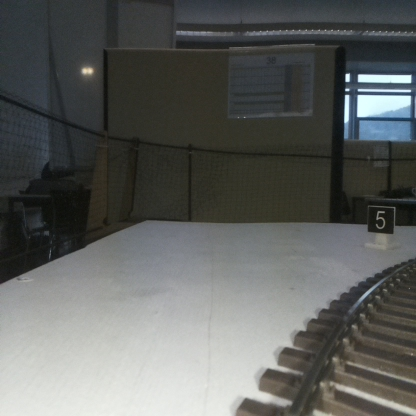black-stop-5: (367, 207, 394, 247)
